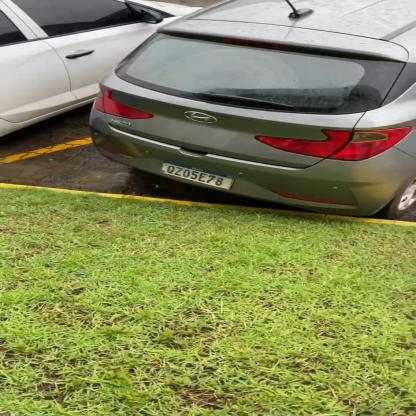Plate: (160, 156, 242, 191)
